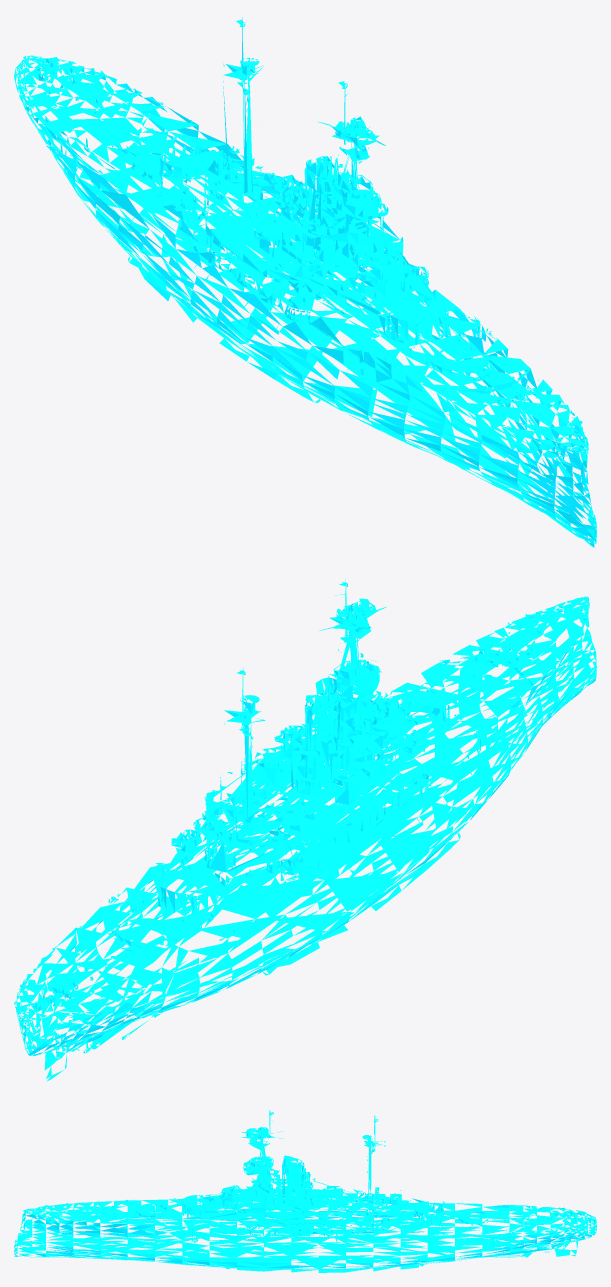
The model's file is Royal_Sovereign.glb.
3 renders of one model, top to bottom at view 1: azimuth 30°, elevation 25°; view 2: azimuth 150°, elevation 25°; view 3: azimuth 270°, elevation 25°, orthographic. The views are drawn at different scales.
Bounding box in the file's own units: 2.05 × 3.51 × 12.6.
